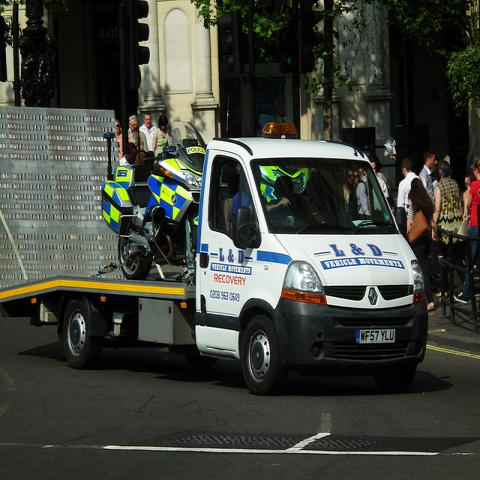motorcycle: (100, 121, 206, 280)
truck: (3, 109, 428, 394)
